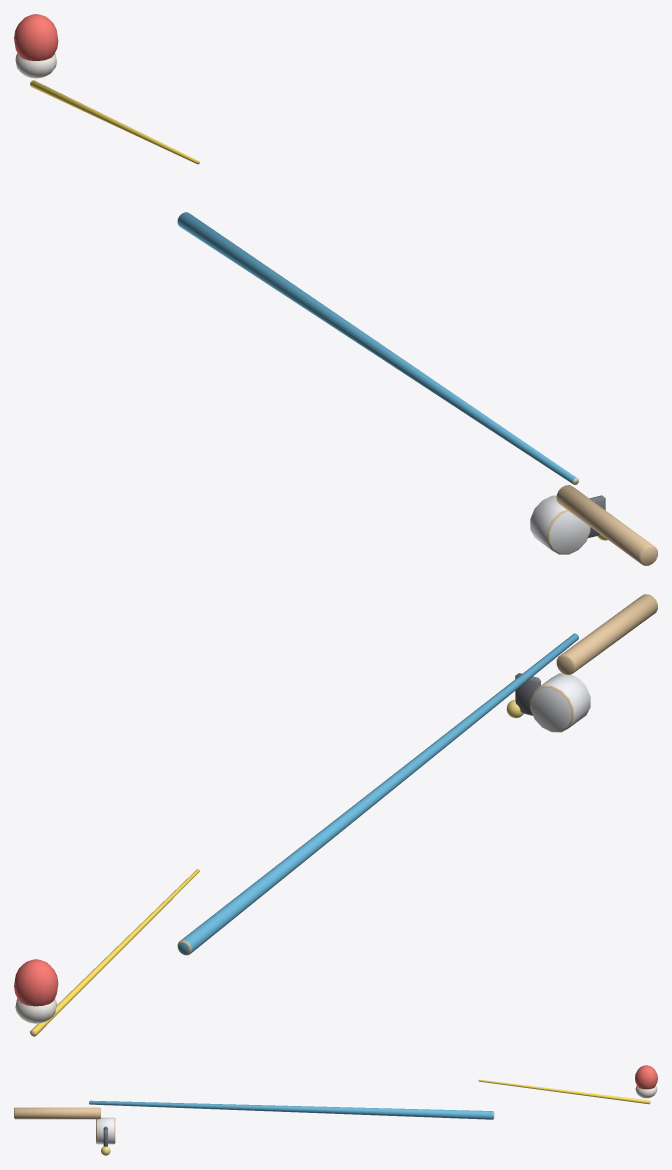
File: OW_FishingRod.fbx
The picture shows the model from 3 angles, top to bottom: view 1: azimuth 30°, elevation 25°; view 2: azimuth 150°, elevation 25°; view 3: azimuth 270°, elevation 25°; orthographic projection. The views are drawn at different scales.
Visible parts, largest first — view 1: RodBody, BobberTip; view 2: RodBody, BobberTip, ReelHandle; view 3: RodBody, BobberTip, ReelHandle.
Boxes of the visible parts, bbox=[...] form: RodBody: bbox=[30, 80, 657, 565]; BobberTip: bbox=[14, 14, 58, 78]; RodBody: bbox=[30, 594, 657, 1036]; BobberTip: bbox=[14, 959, 58, 1023]; ReelHandle: bbox=[506, 673, 540, 718]; RodBody: bbox=[14, 1079, 650, 1144]; BobberTip: bbox=[635, 1065, 657, 1098]; ReelHandle: bbox=[101, 1126, 110, 1155].
Size of the model in its own units: 18.31 by 35.6 by 267.
